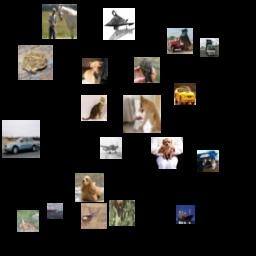airplane: (103, 8, 135, 40), (100, 137, 122, 159)
automobile: (2, 120, 40, 158), (197, 150, 219, 172), (174, 83, 196, 105)
bird: (134, 57, 160, 83)
cat: (81, 95, 107, 121)
deer: (81, 203, 107, 229), (109, 200, 135, 226), (17, 210, 39, 232)
dog: (123, 95, 161, 133), (151, 137, 183, 169), (75, 173, 104, 202), (82, 58, 108, 84)
frog: (18, 45, 53, 80)
ship: (176, 205, 195, 224), (47, 203, 63, 219)
truck: (167, 28, 193, 54), (200, 38, 219, 57)
